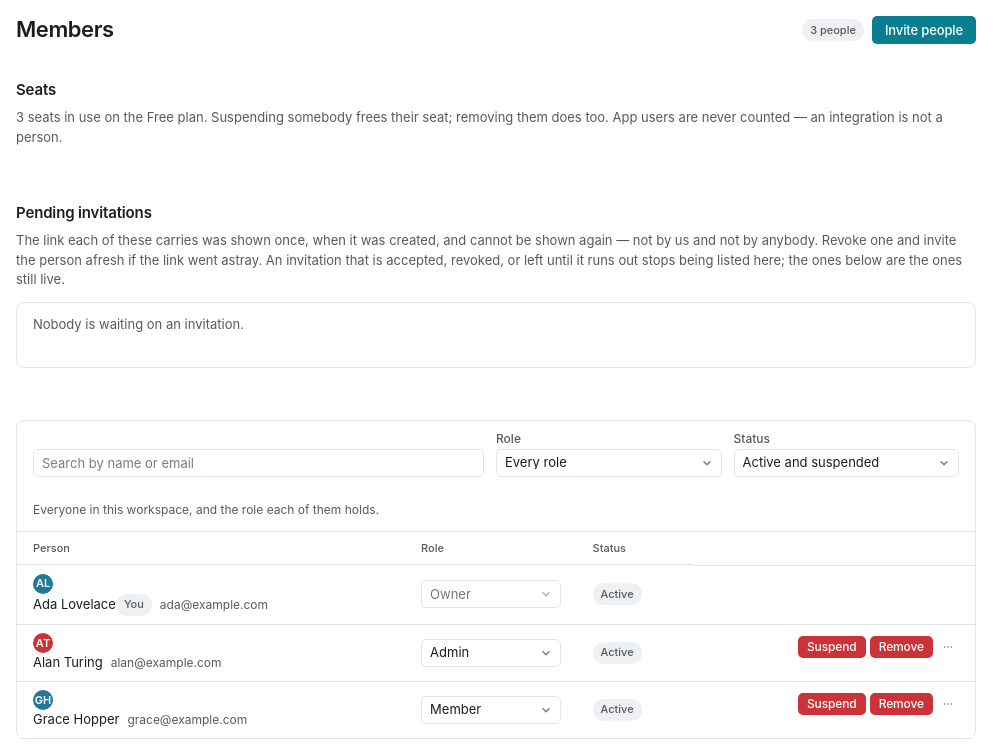
Test: the member table › narrows the table by role
Step 1. Select "Admin" in the dropdown labelled "Role" → (609, 462), box [497,450,720,476]
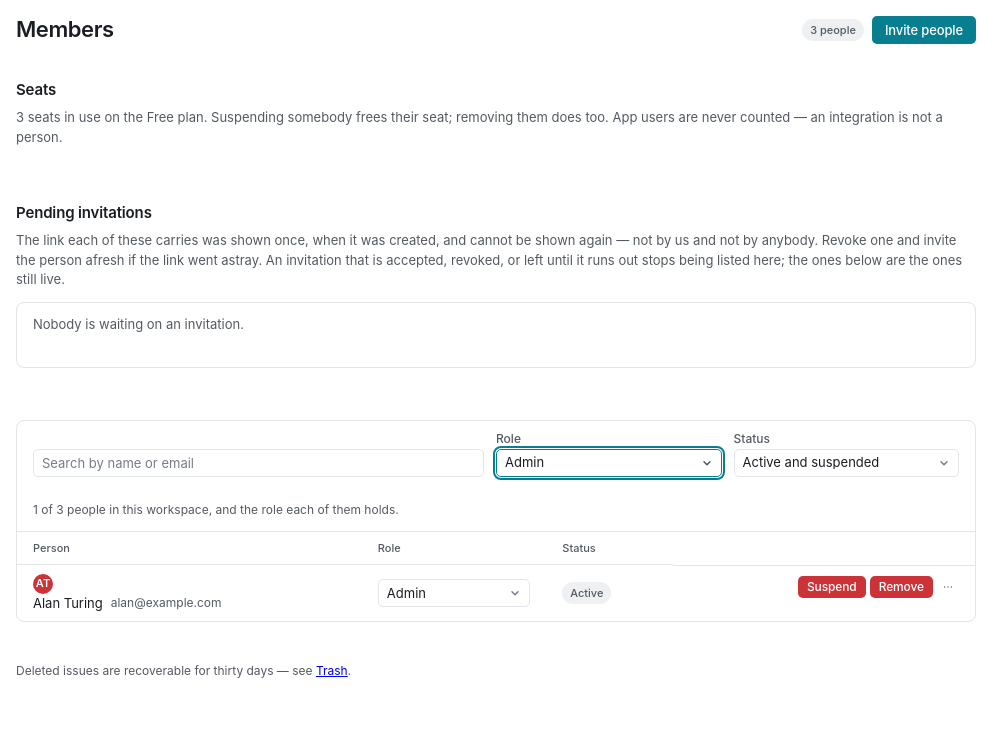
Expected: the text "Alan Turing" is shown, [33,594,103,613]
Result: the text "Grace Hopper" is gone
